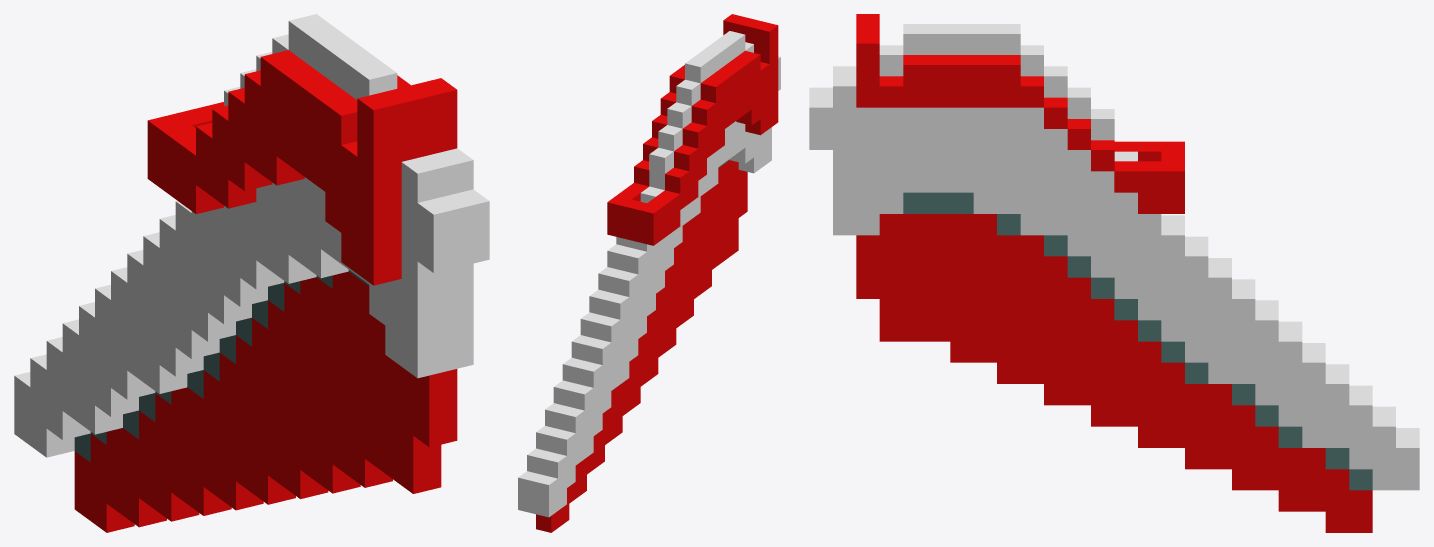
Rendered from wings.obj.
3 renders of one model, left to right at view 1: azimuth 30°, elevation 25°; view 2: azimuth 150°, elevation 25°; view 3: azimuth 270°, elevation 25°, orthographic. The views are drawn at different scales.
Bounding box in the file's own units: 3 × 23 × 26.
1 material, 1 textured.
